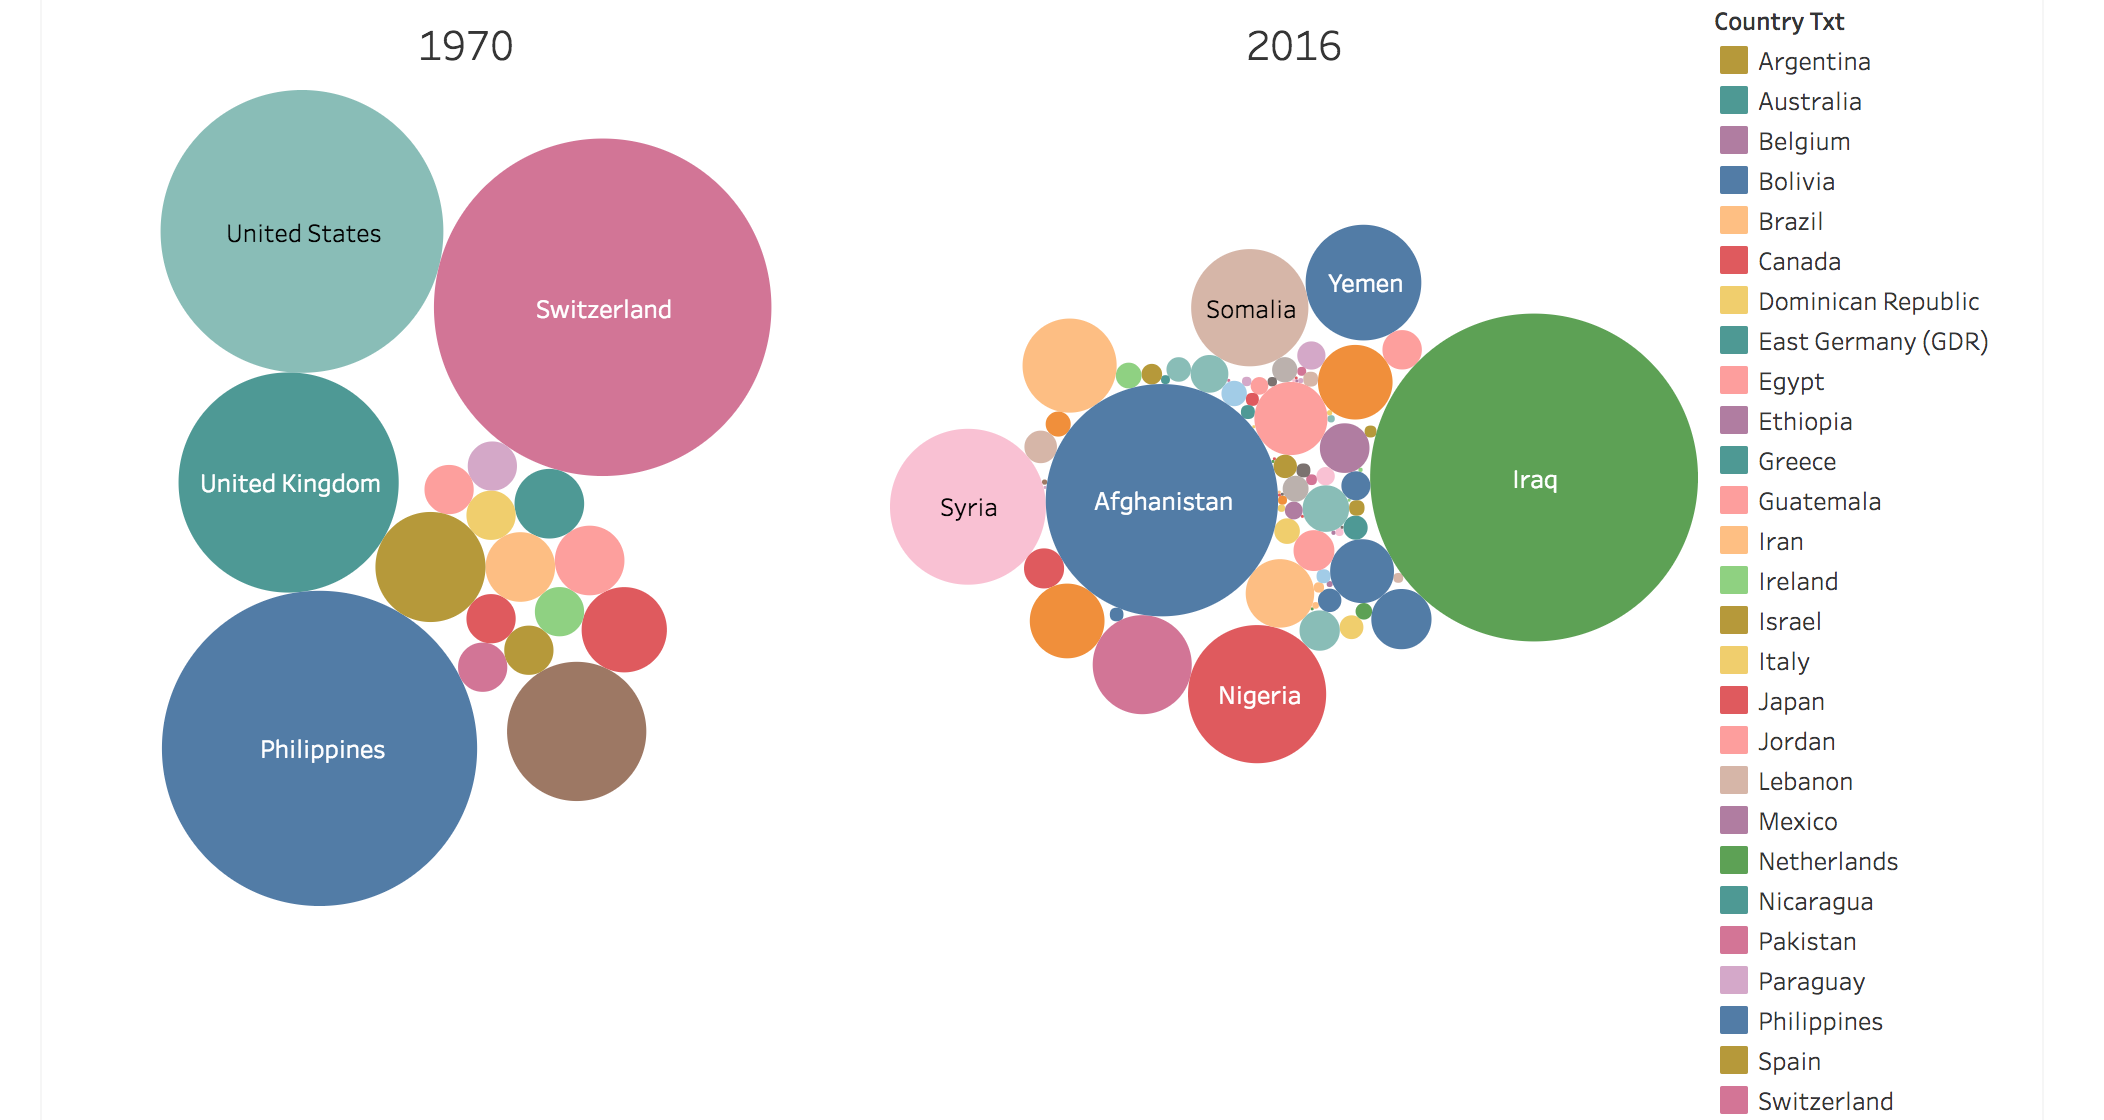

The dashboard page shown, as its layout file describes it:
{"tool":"tableau","page":{"name":"Dashboard 1","canvas":[1000,800],"ordinal":0},"visuals":[{"type":"worksheet","title":"Sheet 2","mark":"Circle","box":[0,0,420,800]},{"type":"worksheet","title":"Sheet 1","mark":"Circle","box":[420,0,420,800]},{"type":"legend","title":"Sheet 2","param":"[federated.04id06k0r0qn6o1epfiiu1t74m8r].[none:country_txt:nk]","box":[840,0,160,710]},{"type":"filter","title":"Sheet 1","param":"[federated.04id06k0r0qn6o1epfiiu1t74m8r].[none:iyear:qk]","box":[840,710,160,69]}]}

Visuals, with their boxes on the page's 1000x800 design canvas (x1, y1, x2, y2). These are canvas units, not pixel positions in the 2104x1120 screenshot, which may show the page scaled, cropped or inside an application window:
"Sheet 2" worksheet (Circle marks): 0,0,420,800
"Sheet 1" worksheet (Circle marks): 420,0,840,800
"Sheet 2" legend: 840,0,1000,710
"Sheet 1" filter: 840,710,1000,779
